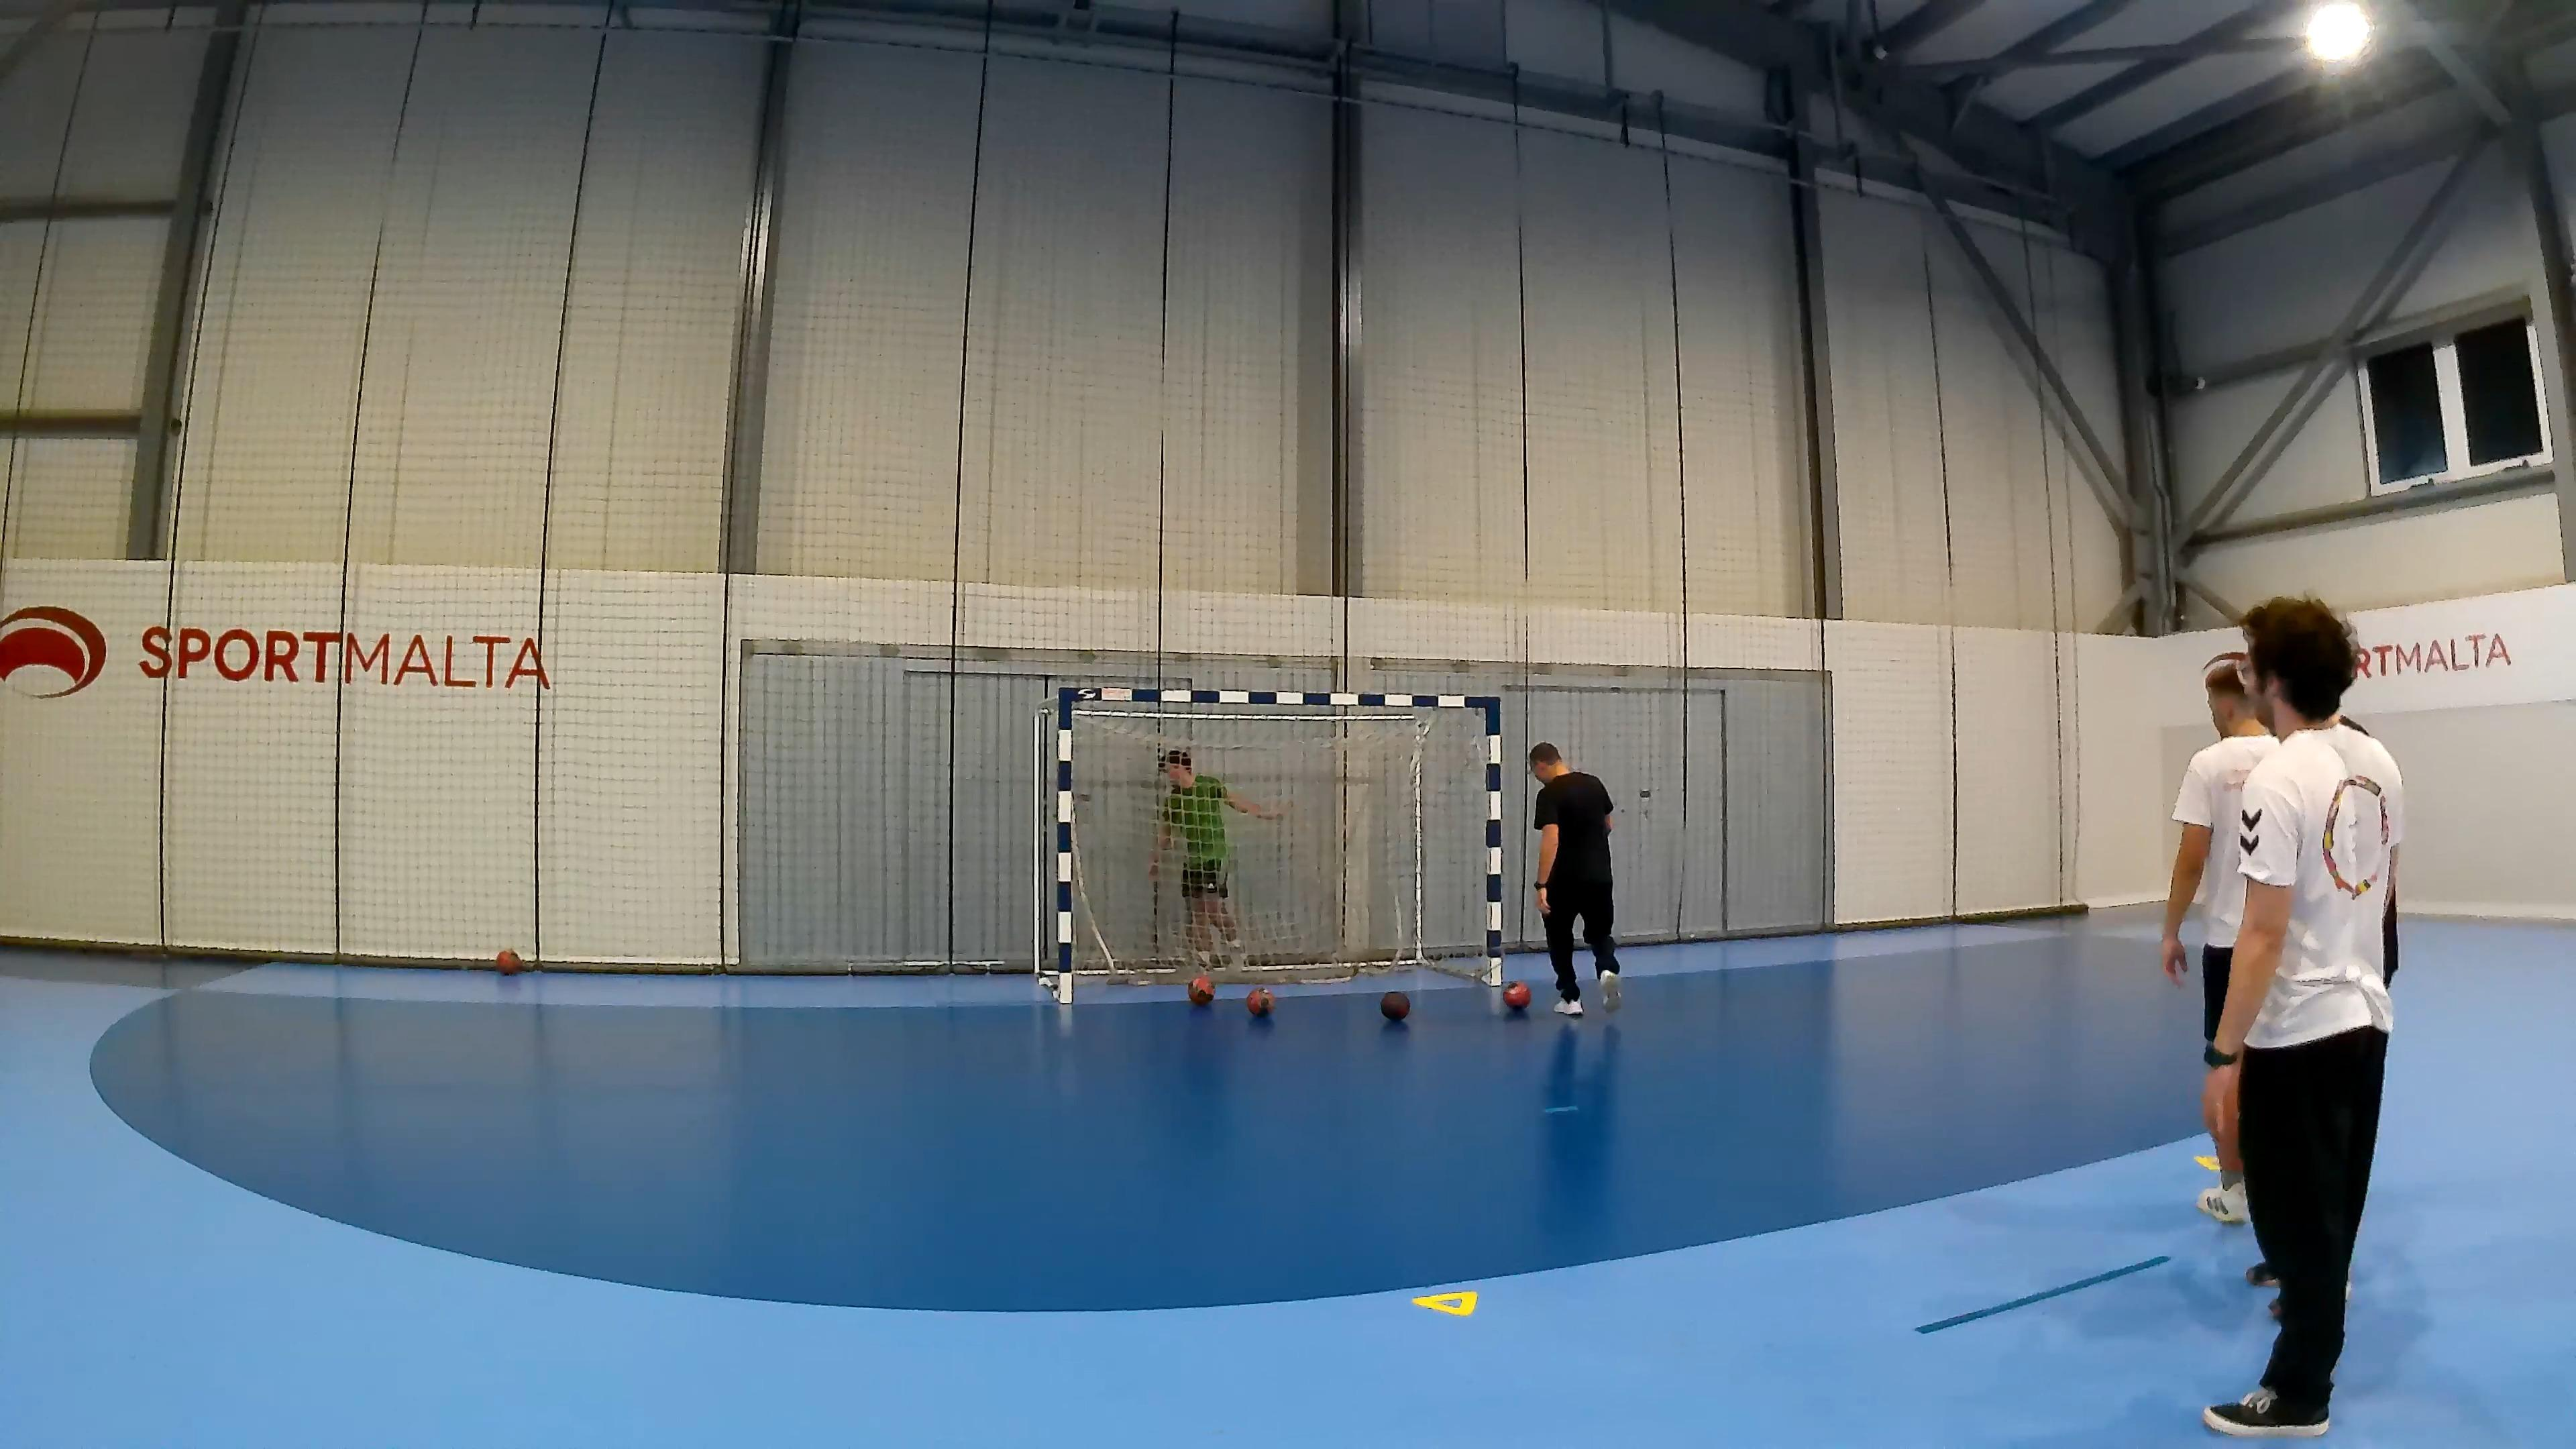handball: (1380, 989, 1410, 1019), (1244, 985, 1274, 1016), (1187, 975, 1214, 1005), (1502, 980, 1529, 1008)
